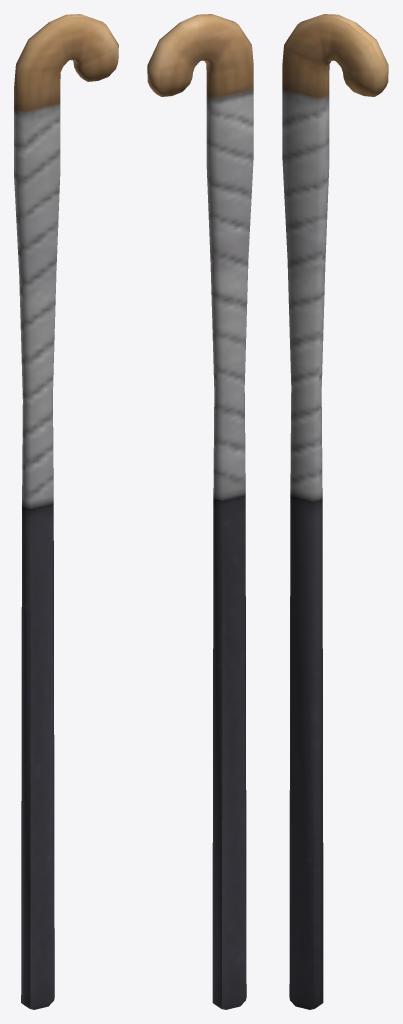
The model's file is HockeyStick.fbx.
3 views of the same model, side by side, from view 1: azimuth 30°, elevation 25°; view 2: azimuth 210°, elevation 25°; view 3: azimuth 330°, elevation 25° (orthographic).
Parts seen in each view (by area): view 1: HockeyStick; view 2: HockeyStick; view 3: HockeyStick.
Boxes of the visible parts, x1,y1,x2,y2 form: HockeyStick: [14, 14, 118, 1009]; HockeyStick: [147, 14, 253, 1009]; HockeyStick: [282, 14, 388, 1009].
Bounding box in the file's own units: 0.0715 × 0.6629 × 0.0132.
